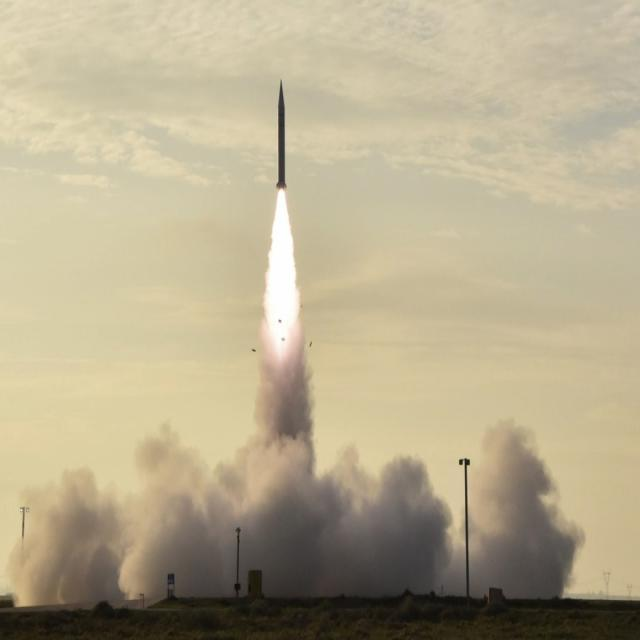missile: (263, 75, 304, 186)
